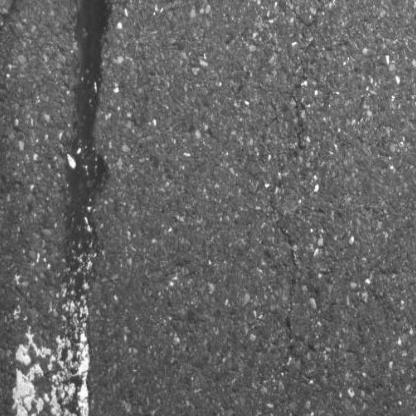Cracks: (0, 0, 21, 208)
